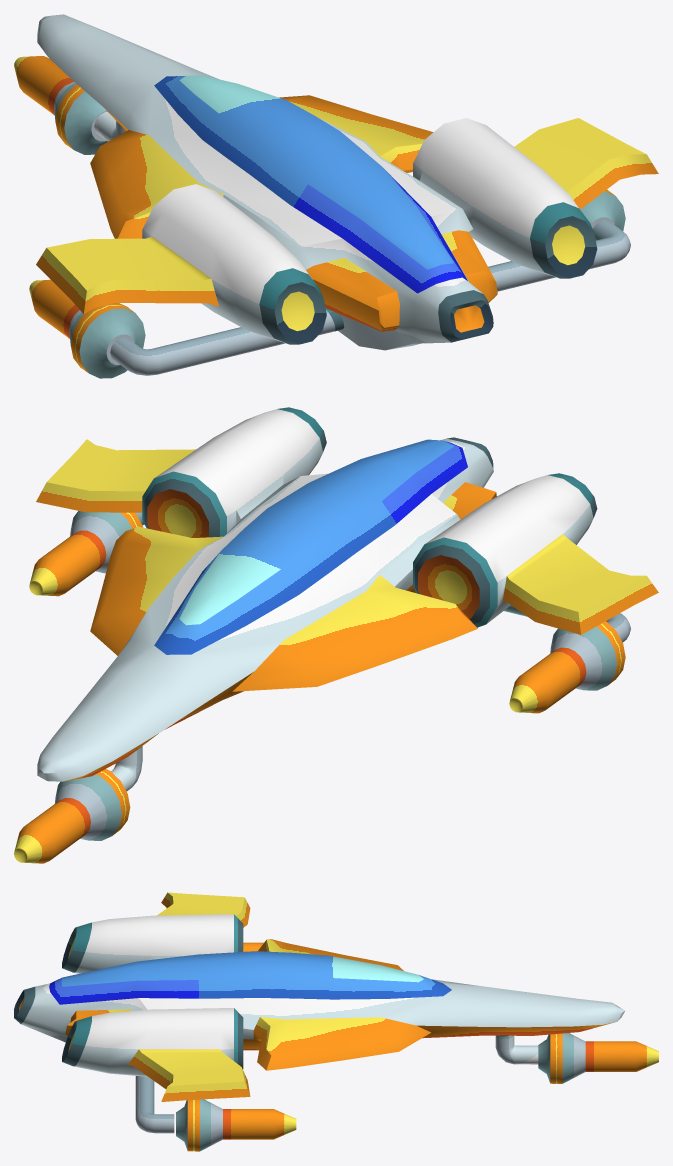
The model's file is Player_00.fbx.
The picture shows the model from 3 angles, top to bottom: view 1: azimuth 30°, elevation 25°; view 2: azimuth 150°, elevation 25°; view 3: azimuth 270°, elevation 25°; orthographic projection. The views are drawn at different scales.
Visible parts, largest first — view 1: Player_00_Body, Player_00_Turret_Back, Player_00_Turret_Front; view 2: Player_00_Body, Player_00_Turret_Back, Player_00_Turret_Front; view 3: Player_00_Body, Player_00_Turret_Back, Player_00_Turret_Front.
Part boxes in pixels (x1=…): Player_00_Body: x1=36, y1=14, x2=658, y2=350; Player_00_Turret_Back: x1=29, y1=189, x2=630, y2=378; Player_00_Turret_Front: x1=14, y1=56, x2=125, y2=154; Player_00_Body: x1=36, y1=407, x2=658, y2=781; Player_00_Turret_Back: x1=29, y1=511, x2=630, y2=713; Player_00_Turret_Front: x1=14, y1=746, x2=142, y2=863; Player_00_Body: x1=14, y1=892, x2=624, y2=1101; Player_00_Turret_Back: x1=135, y1=942, x2=296, y2=1151; Player_00_Turret_Front: x1=495, y1=1033, x2=658, y2=1083.
Size of the model in its own units: 1.56 by 0.4472 by 2.13.
